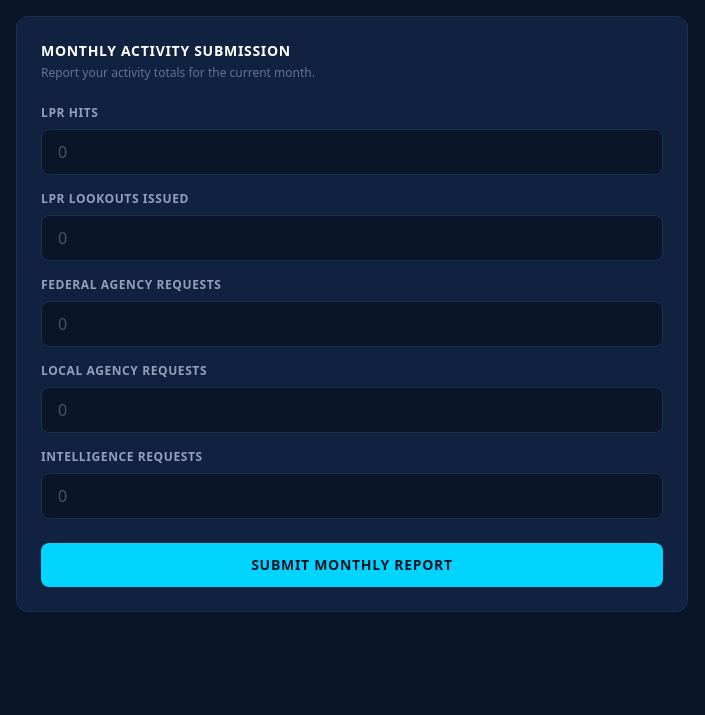
Test case: AnalystDashboard monthly submission › submits the report and shows the confirmation banner
Step 1. Type "42" into the number field labelled "LPR Hits" → [352, 152], box [41,129,663,175]
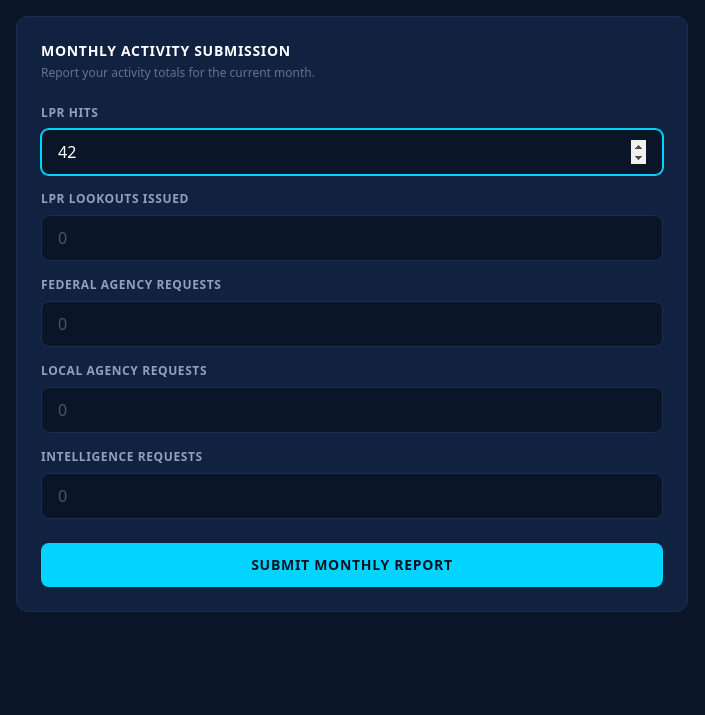
Step 2. Type "3" into the number field labelled "LPR Lookouts Issued" → [352, 238], box [41,215,663,261]
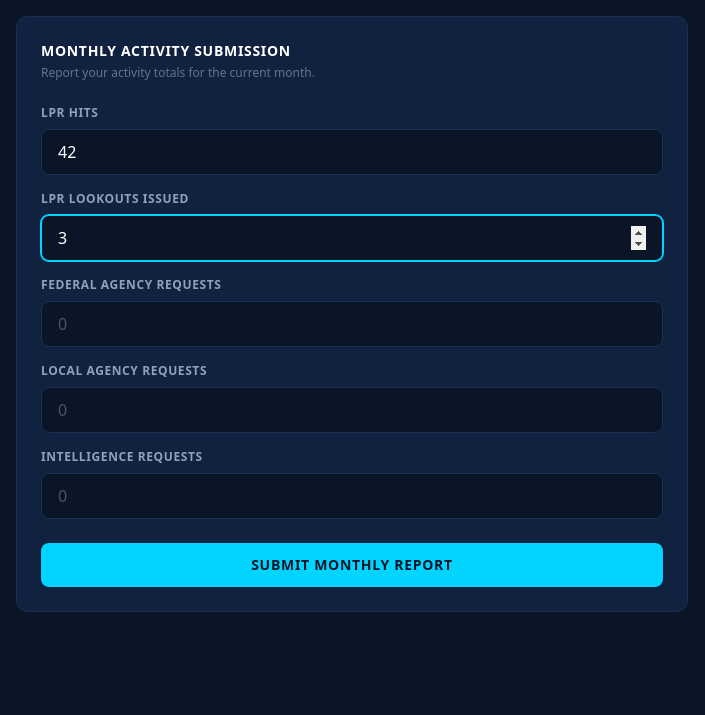
Step 3. Type "5" into the number field labelled "Federal Agency Requests" → [352, 324], box [41,301,663,347]
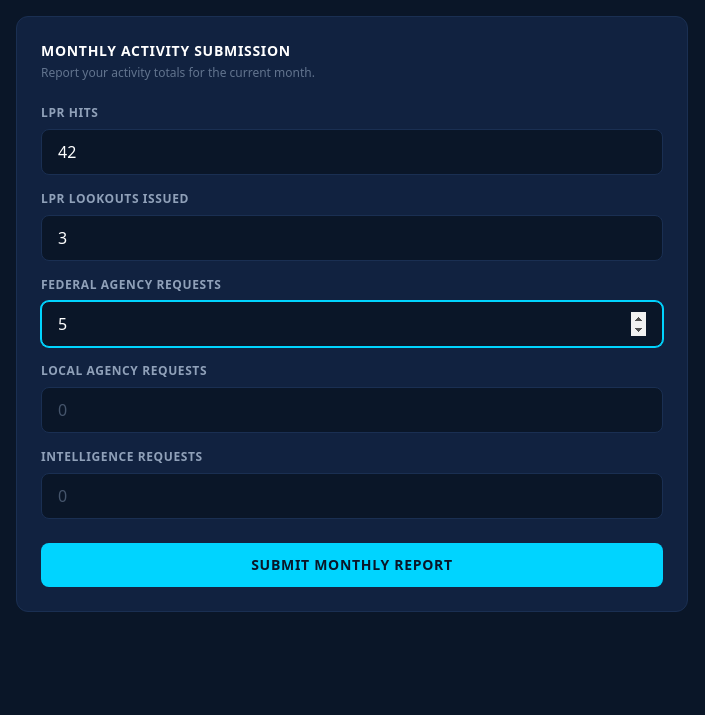
Step 4. Type "7" into the number field labelled "Local Agency Requests" → [352, 410], box [41,387,663,433]
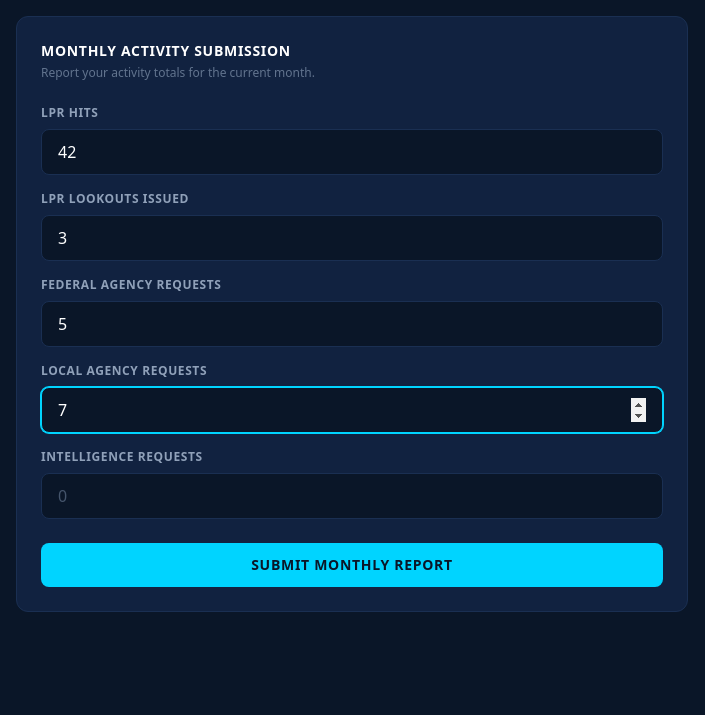
Step 5. Type "2" into the number field labelled "Intelligence Requests" → [352, 496], box [41,473,663,519]
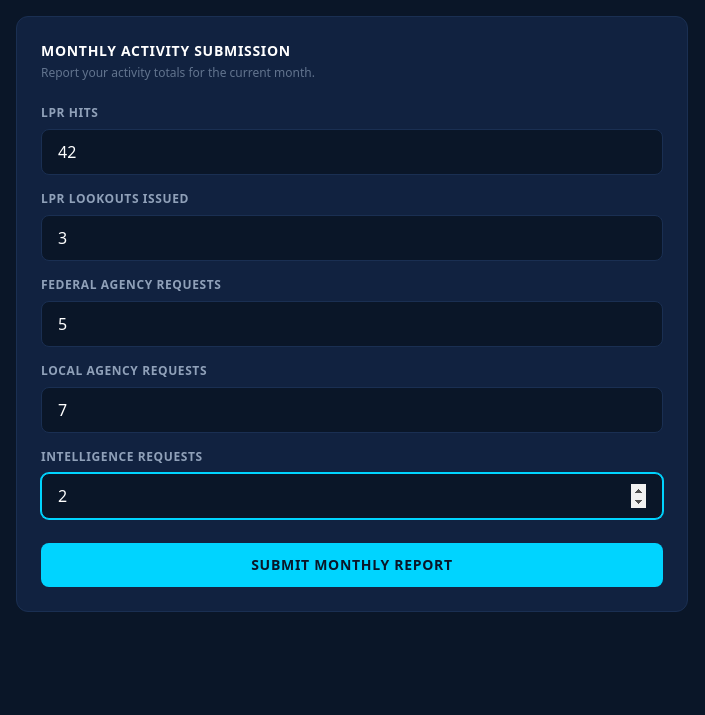
Step 6. Click the button "Submit Monthly Report" → [352, 565], box [41,543,663,587]
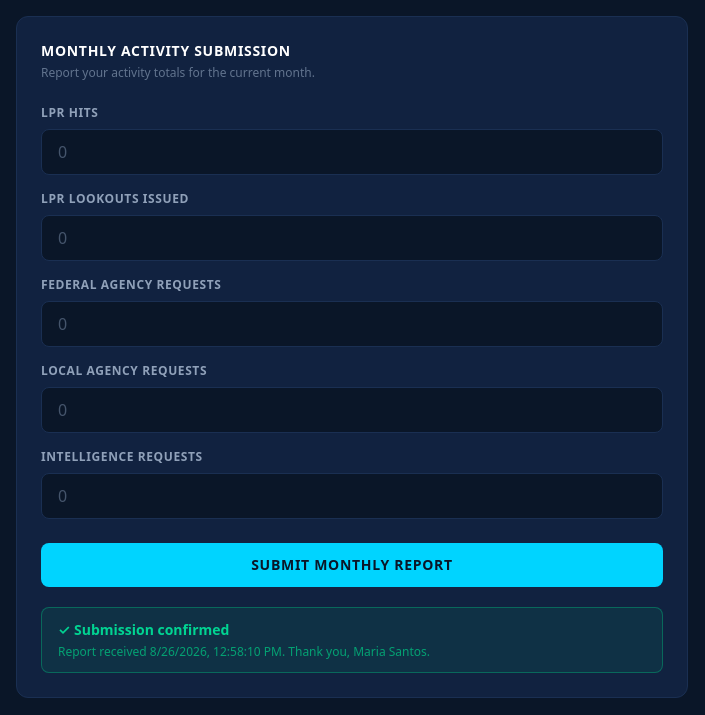
Expected: the text "✓ Submission confirmed" is shown, [58,620,230,639]
